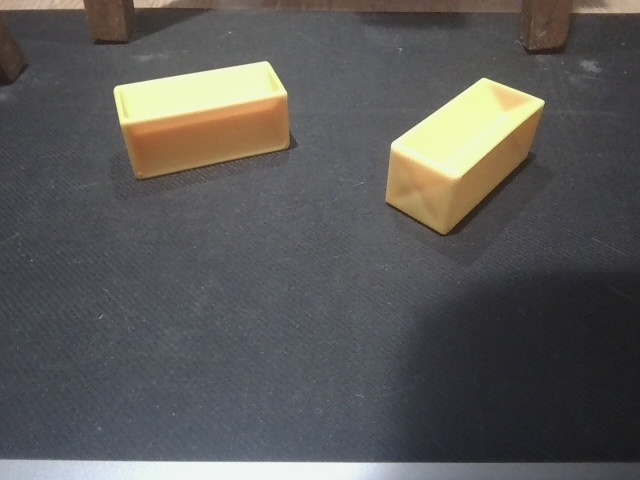YellowSample: (380, 74, 549, 239), (111, 58, 293, 179)
